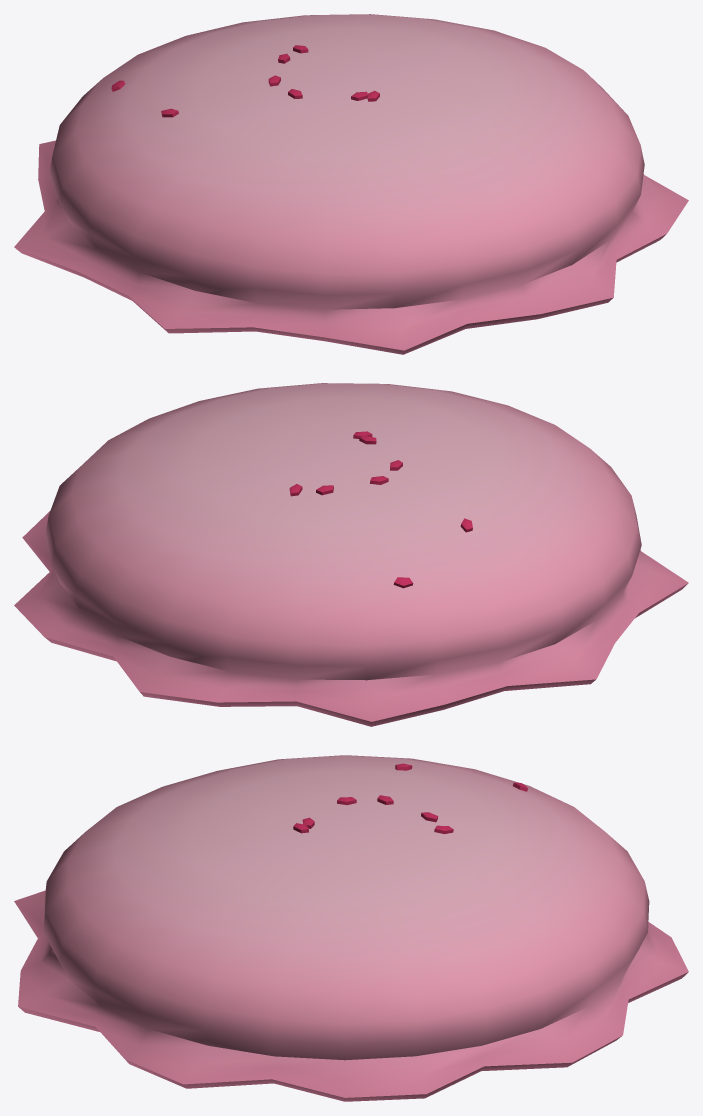
Rendered from scoop_strawberry.glb.
The picture shows the model from 3 angles, top to bottom: view 1: azimuth 30°, elevation 25°; view 2: azimuth 150°, elevation 25°; view 3: azimuth 270°, elevation 25°; orthographic projection. The views are drawn at different scales.
Parts seen in each view (by area): view 1: body; view 2: body; view 3: body.
Part boxes in pixels (x1,y1,x2,y2): body: (14,14,688,354); body: (14,383,688,726); body: (14,755,688,1101).
Size of the model in its own units: 0.9226 by 0.22 by 0.9074.
